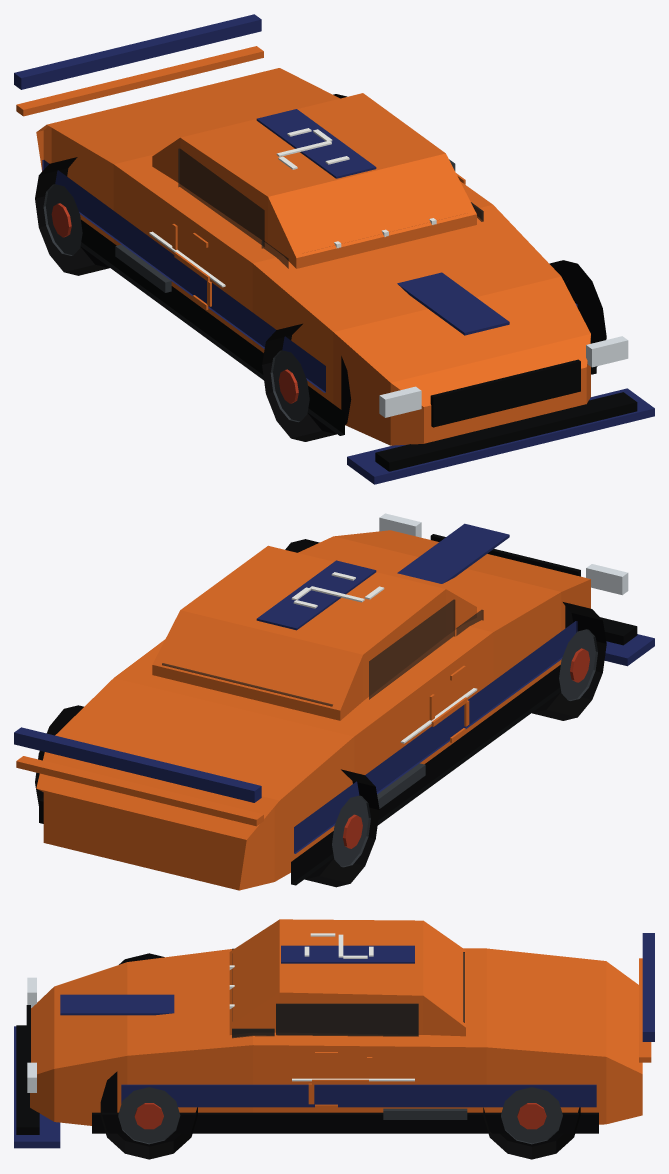
File: stock_car_05.obj
3 views of the same model, one above another, from view 1: azimuth 30°, elevation 25°; view 2: azimuth 150°, elevation 25°; view 3: azimuth 270°, elevation 25° (orthographic). The views are drawn at different scales.
Visible parts, largest first — view 1: StockCar_05; view 2: StockCar_05; view 3: StockCar_05.
Boxes of the visible parts, bbox=[...] form: StockCar_05: bbox=[14, 14, 654, 484]; StockCar_05: bbox=[14, 513, 654, 890]; StockCar_05: bbox=[14, 919, 654, 1159].
Bounding box in the file's own units: 2.35 × 1.34 × 5.26.
